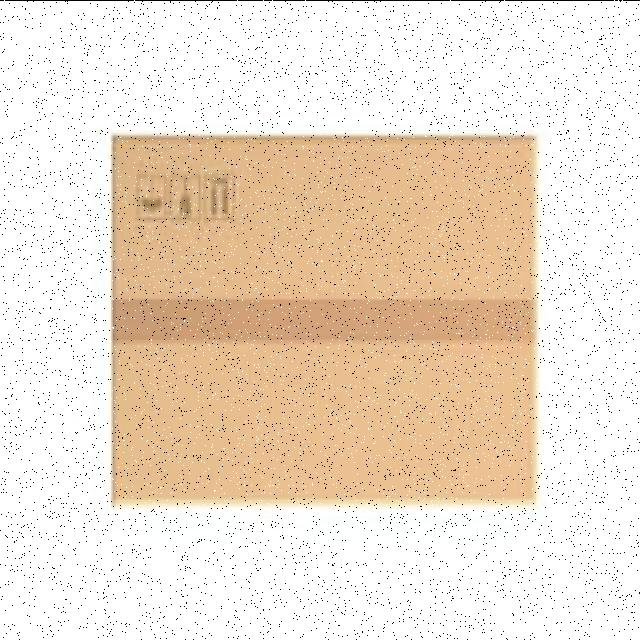normal: (103, 126, 542, 509)
